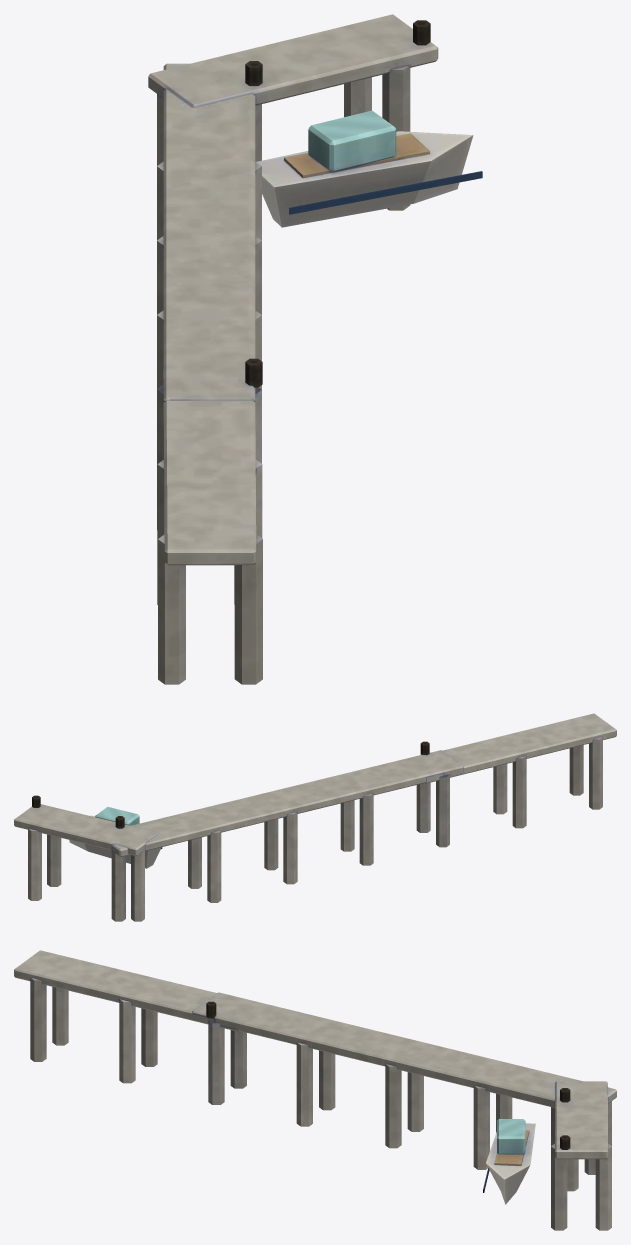
The model's file is harbor-pier-25.glb.
The picture shows the model from 3 angles, top to bottom: view 1: azimuth 30°, elevation 25°; view 2: azimuth 150°, elevation 25°; view 3: azimuth 270°, elevation 25°; orthographic projection. The views are drawn at different scales.
Parts seen in each view (by area): view 1: harbor-pier-25; view 2: harbor-pier-25; view 3: harbor-pier-25.
Boxes of the visible parts, bbox=[...] form: harbor-pier-25: bbox=[148, 14, 482, 684]; harbor-pier-25: bbox=[14, 713, 616, 921]; harbor-pier-25: bbox=[14, 950, 616, 1230].
Bounding box in the file's own units: 2.35 × 0.535 × 2.95.
1 material, 1 textured.
